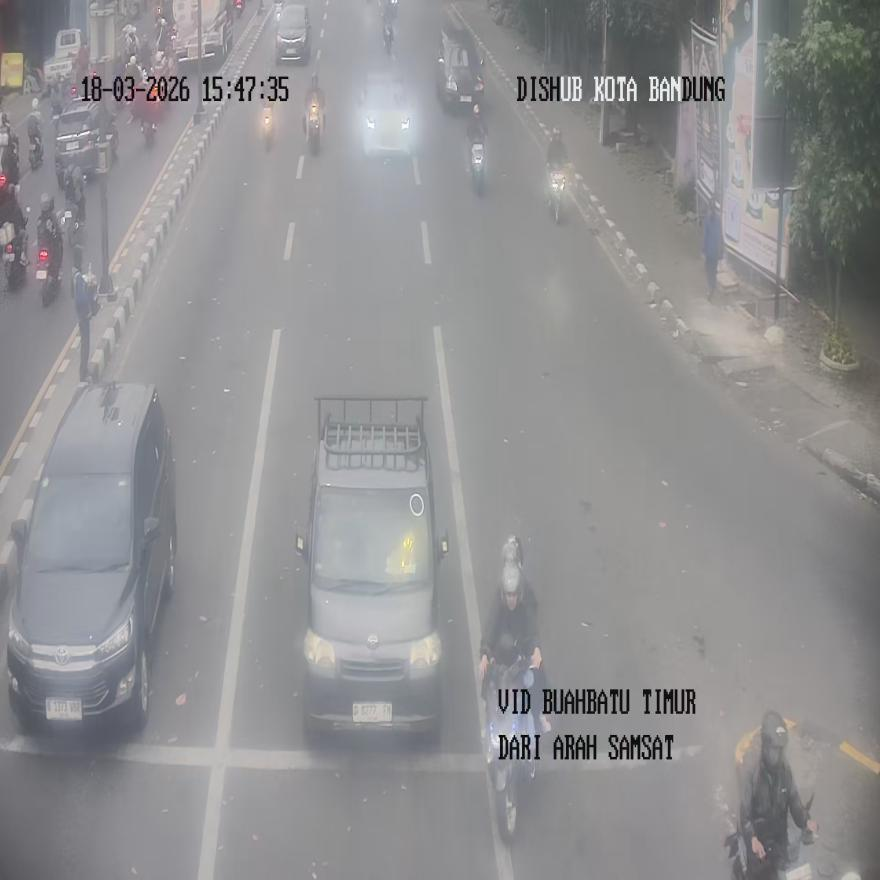Motor: (5, 381, 178, 732), (295, 397, 448, 738), (360, 73, 411, 158), (436, 29, 484, 110), (274, 3, 311, 65)
Truk: (482, 653, 538, 842), (726, 790, 814, 879), (74, 264, 98, 381), (2, 207, 30, 290), (35, 235, 61, 306), (140, 73, 159, 146), (305, 88, 324, 154), (547, 166, 565, 224), (470, 139, 485, 193), (382, 3, 396, 54), (28, 131, 44, 170), (263, 102, 273, 150)
